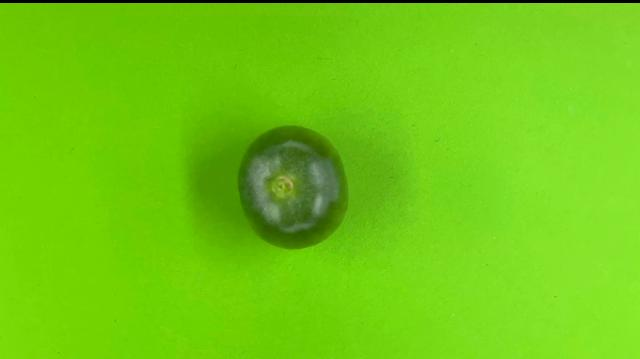Fruit Maturation: (236, 124, 352, 251)
